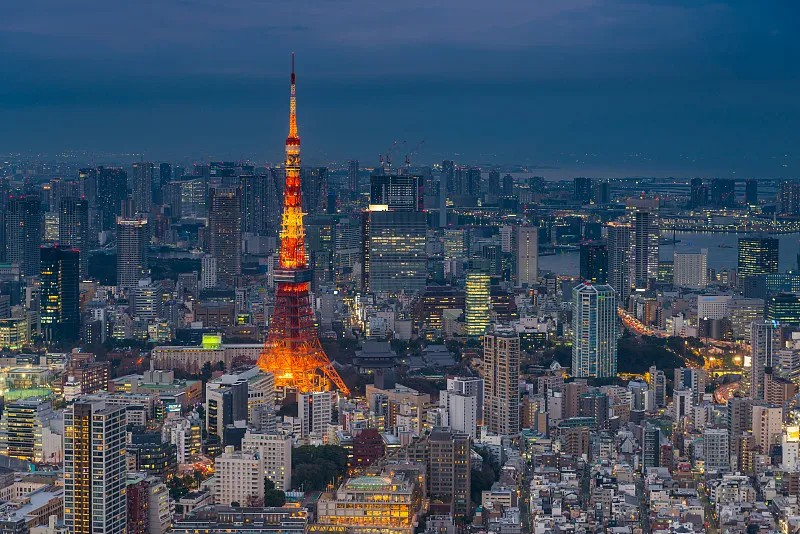Tokyo: (253, 50, 352, 398)
